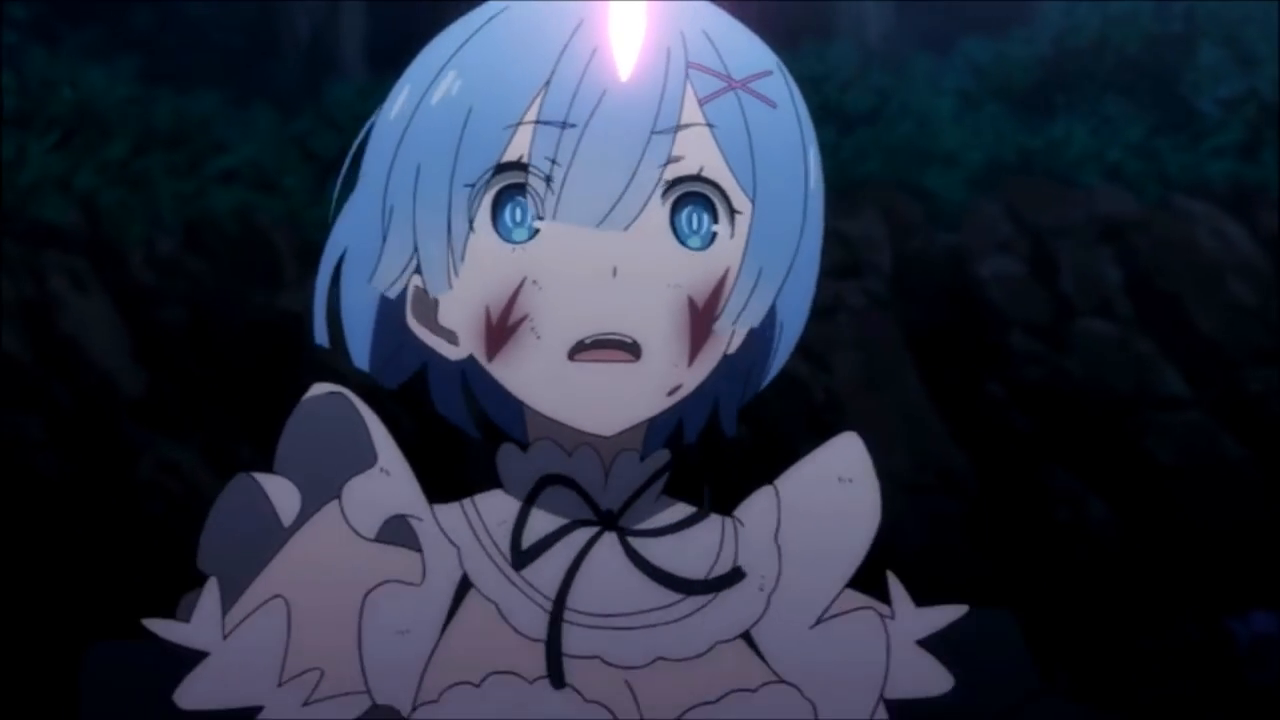REM: (307, 1, 830, 447)
